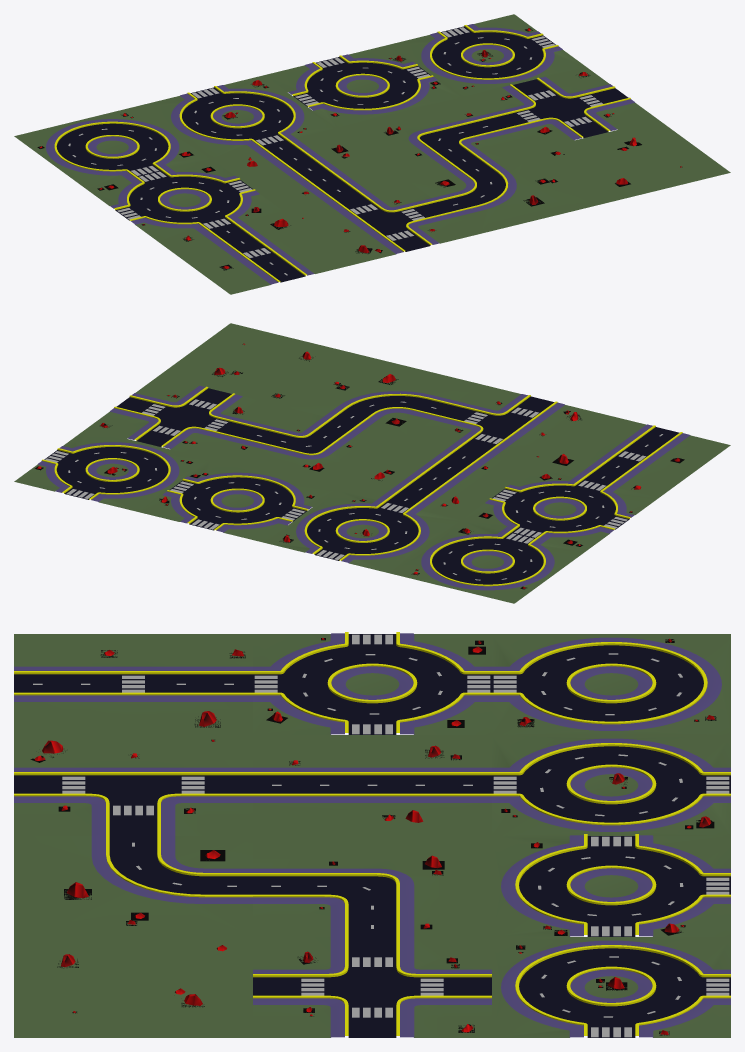
Rendered from Road_Tileset.fbx.
3 views of the same model, one above another, from view 1: azimuth 30°, elevation 25°; view 2: azimuth 150°, elevation 25°; view 3: azimuth 270°, elevation 25° (orthographic). The views are drawn at different scales.
Parts seen in each view (by area): view 1: tile_road_circle_3, tile_road_circle_2L, tile_road_circle_1, tile_road_turn, tile_crossroads_3, tile_road_circle_2I, tile_crossroads_4, tile_road_direct_cross, tile_road_circle_4, tile_road_direct, tile_flat, tile_road_turn_smoort; view 2: tile_road_circle_1, tile_road_circle_2I, tile_road_circle_3, tile_crossroads_3, tile_road_turn, tile_crossroads_4, tile_road_circle_2L, tile_road_circle_4, tile_road_direct, tile_flat, tile_road_direct_cross, tile_road_turn_smoort; view 3: tile_road_circle_1, tile_road_circle_3, tile_crossroads_4, tile_road_circle_2L, tile_road_direct_cross, tile_road_direct, tile_road_circle_2I, tile_road_turn, tile_flat, tile_crossroads_3, tile_road_circle_4, tile_road_turn_smoort (+1 smaller).
Boxes of the visible parts, <box> form: tile_road_circle_3: <box>264,45,460,127</box>; tile_road_circle_2L: <box>389,14,585,97</box>; tile_road_circle_1: <box>14,106,210,188</box>; tile_road_turn: <box>337,97,533,180</box>; tile_crossroads_3: <box>284,181,480,263</box>; tile_road_circle_2I: <box>139,75,335,158</box>; tile_crossroads_4: <box>462,67,658,150</box>; tile_road_direct_cross: <box>159,211,355,294</box>; tile_road_circle_4: <box>86,158,282,241</box>; tile_road_direct: <box>211,128,407,211</box>; tile_flat: <box>534,120,730,202</box>; tile_road_turn_smoort: <box>409,150,605,233</box>; tile_road_circle_1: <box>389,520,585,603</box>; tile_road_circle_2I: <box>264,490,460,572</box>; tile_road_circle_3: <box>139,459,335,542</box>; tile_crossroads_3: <box>409,384,605,467</box>; tile_road_turn: <box>211,406,407,489</box>; tile_crossroads_4: <box>86,376,282,459</box>; tile_road_circle_2L: <box>14,429,210,511</box>; tile_road_circle_4: <box>462,467,658,550</box>; tile_road_direct: <box>337,437,533,520</box>; tile_flat: <box>159,323,355,406</box>; tile_road_direct_cross: <box>534,415,730,497</box>; tile_road_turn_smoort: <box>284,354,480,436</box>; tile_road_circle_1: <box>492,634,730,734</box>; tile_road_circle_3: <box>492,834,730,936</box>; tile_crossroads_4: <box>253,935,491,1037</box>; tile_road_circle_2L: <box>492,937,730,1037</box>; tile_road_direct_cross: <box>14,634,252,734</box>; tile_road_direct: <box>253,735,491,835</box>; tile_road_circle_2I: <box>492,735,730,835</box>; tile_road_turn: <box>253,836,491,936</box>; tile_flat: <box>14,937,252,1037</box>; tile_crossroads_3: <box>14,735,252,835</box>; tile_road_circle_4: <box>253,632,491,734</box>; tile_road_turn_smoort: <box>14,834,252,936</box>.
Bounding box in the file's own units: 8000 × 99.16 × 6000.
